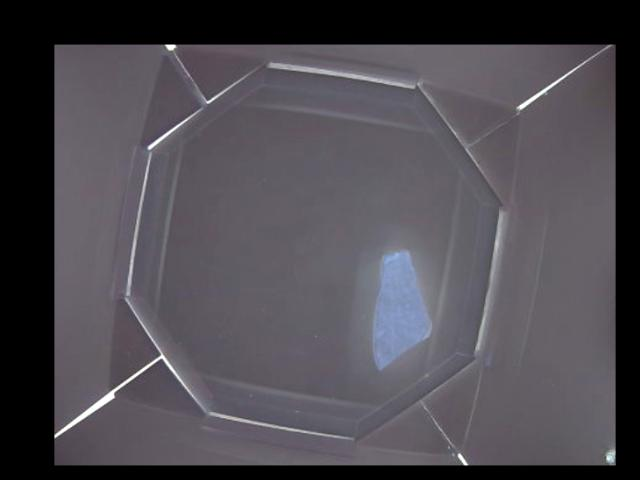China: (371, 250, 434, 368)
